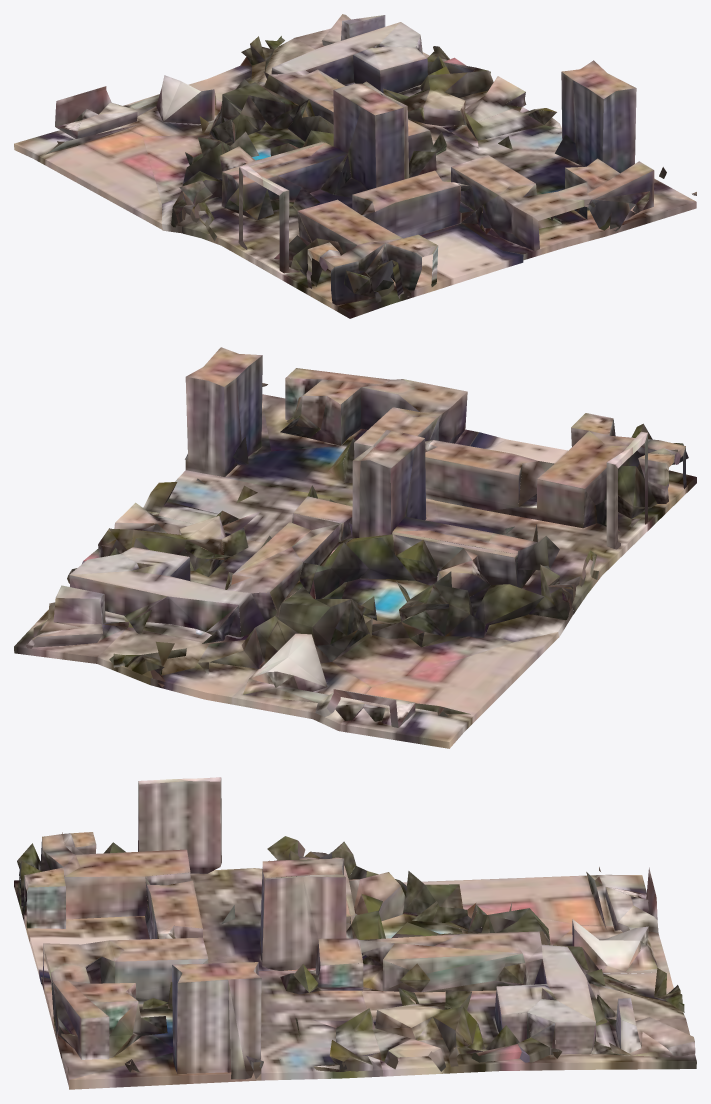
The picture shows the model from 3 angles, top to bottom: view 1: azimuth 30°, elevation 25°; view 2: azimuth 150°, elevation 25°; view 3: azimuth 270°, elevation 25°; orthographic projection. The views are drawn at different scales.
Parts seen in each view (by area): view 1: Mesh_0; view 2: Mesh_0; view 3: Mesh_0.
Boxes of the visible parts, x1,y1,x2,y2 form: Mesh_0: [14, 14, 696, 318]; Mesh_0: [14, 347, 696, 748]; Mesh_0: [14, 777, 696, 1089].
Size of the model in its own units: 266 by 69.26 by 330.
2 materials, 2 textured.
